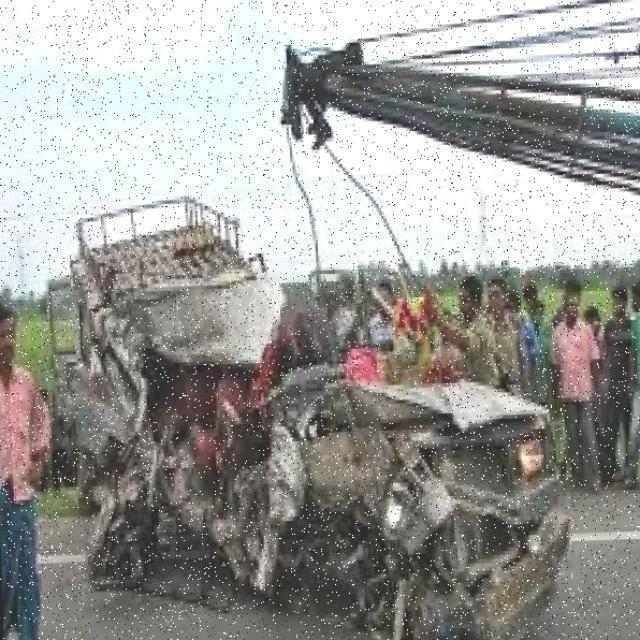accident: (63, 211, 589, 640)
